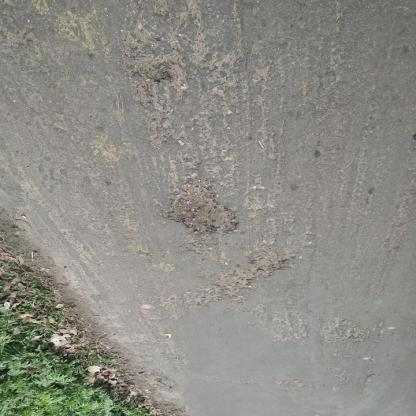pothole: (165, 182, 242, 242), (218, 251, 288, 301), (140, 60, 173, 85)
